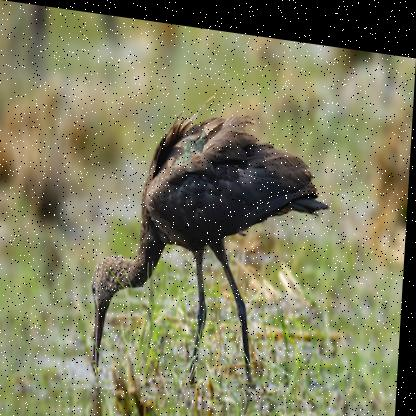Burung: (91, 84, 333, 390)
